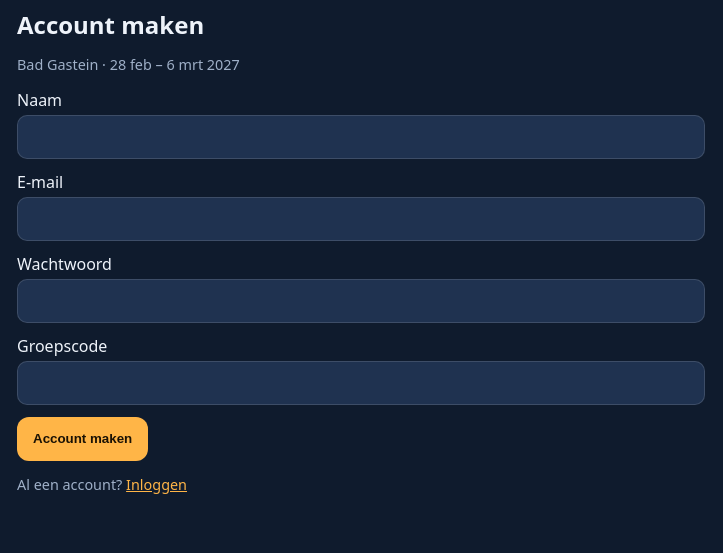
Test case: RegisterPage › explains e-mail confirmation when no session comes back
In the field labelled "Naam": {"x": 361, "y": 137} [17,115,705,159], type "Anna"
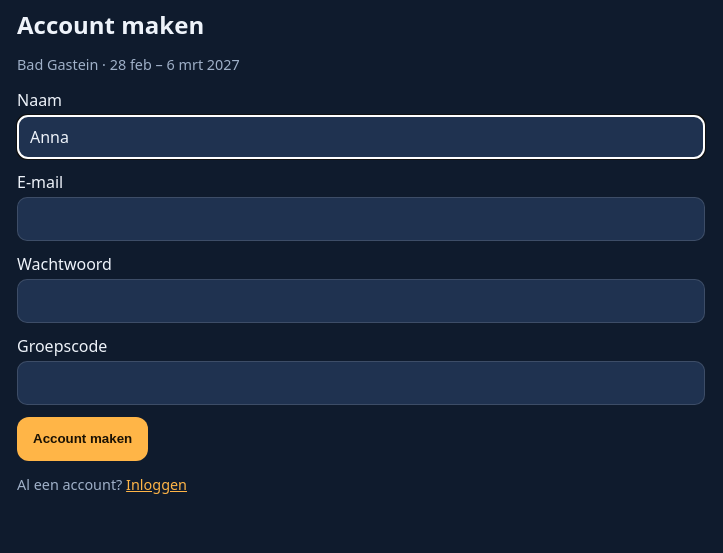
In the field labelled "E-mail": {"x": 361, "y": 219} [17,197,705,241], type "anna@test.nl"
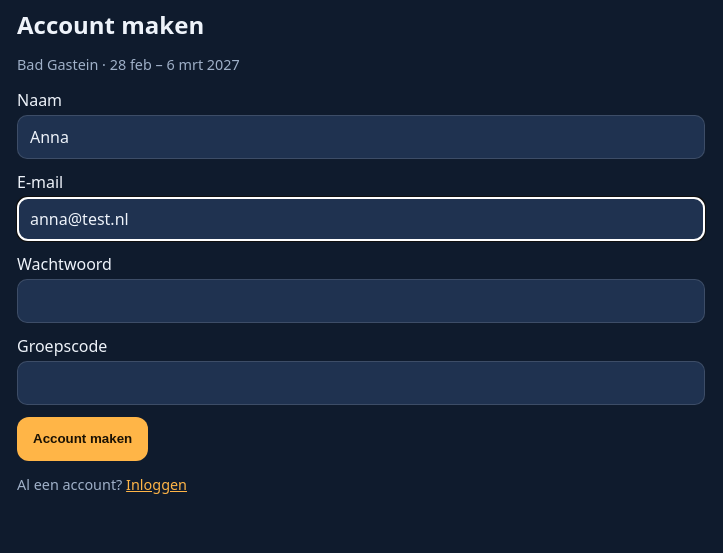
In the password field labelled "Wachtwoord": {"x": 361, "y": 301} [17,279,705,323], type "geheim123"
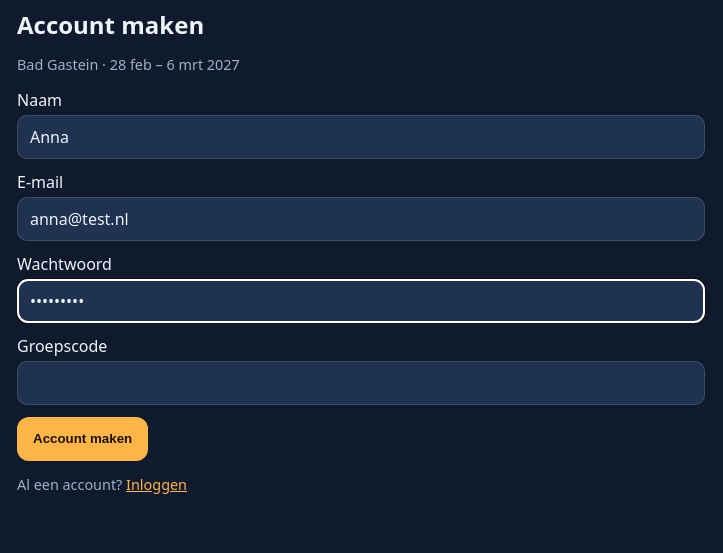
In the field labelled "Groepscode": {"x": 361, "y": 383} [17,361,705,405], type "SOIPEN"
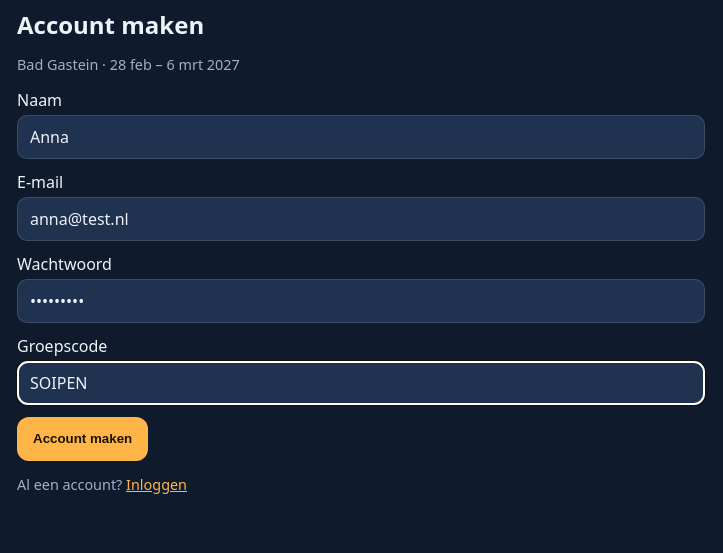
Click the button "Account maken": {"x": 83, "y": 439} [17,417,148,461]
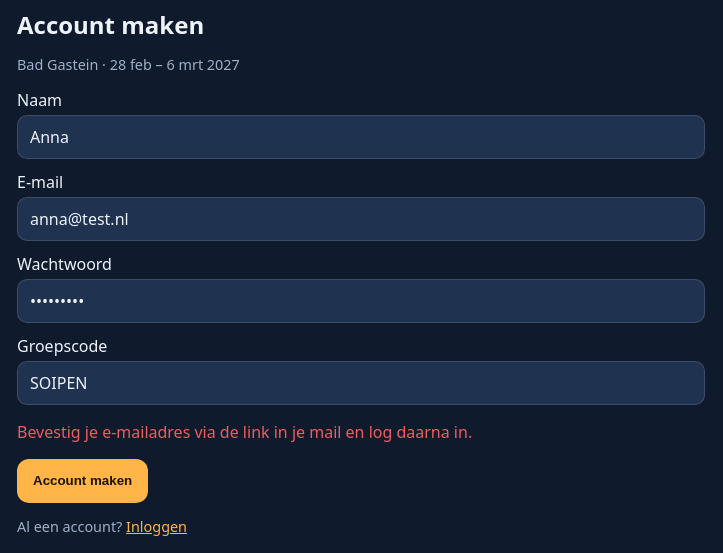
Result: the text "Bevestig je e-mailadres" is shown at [17,421,472,443]
